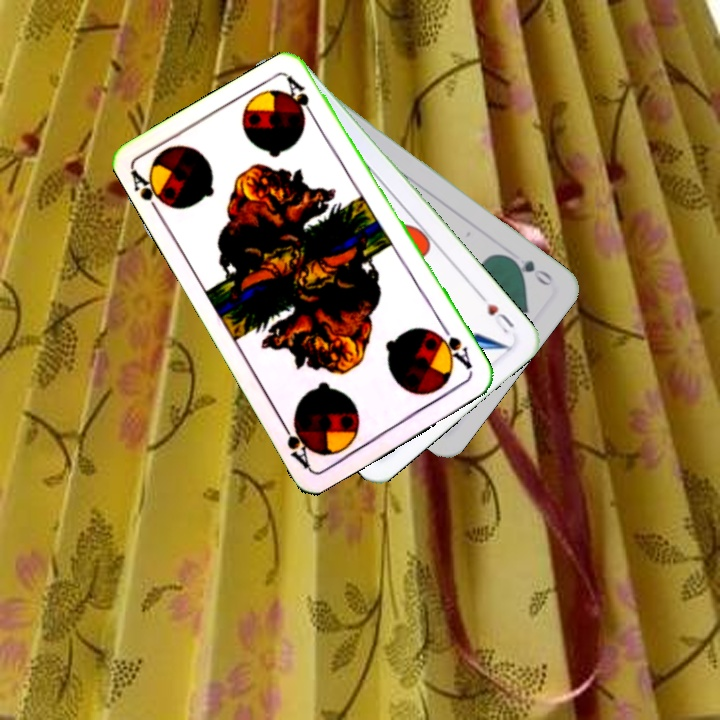GO: (503, 252, 555, 289)
HU: (475, 290, 517, 337)
SA: (126, 164, 175, 220), (431, 322, 475, 376)
